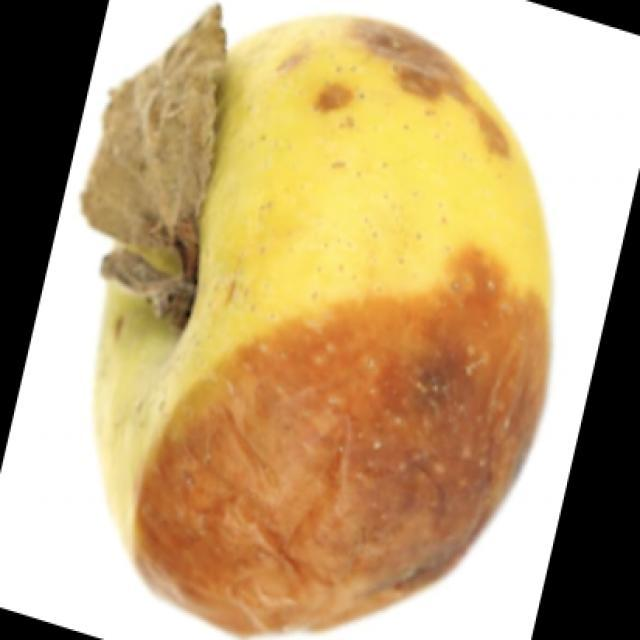Rotten: (103, 21, 550, 632)
